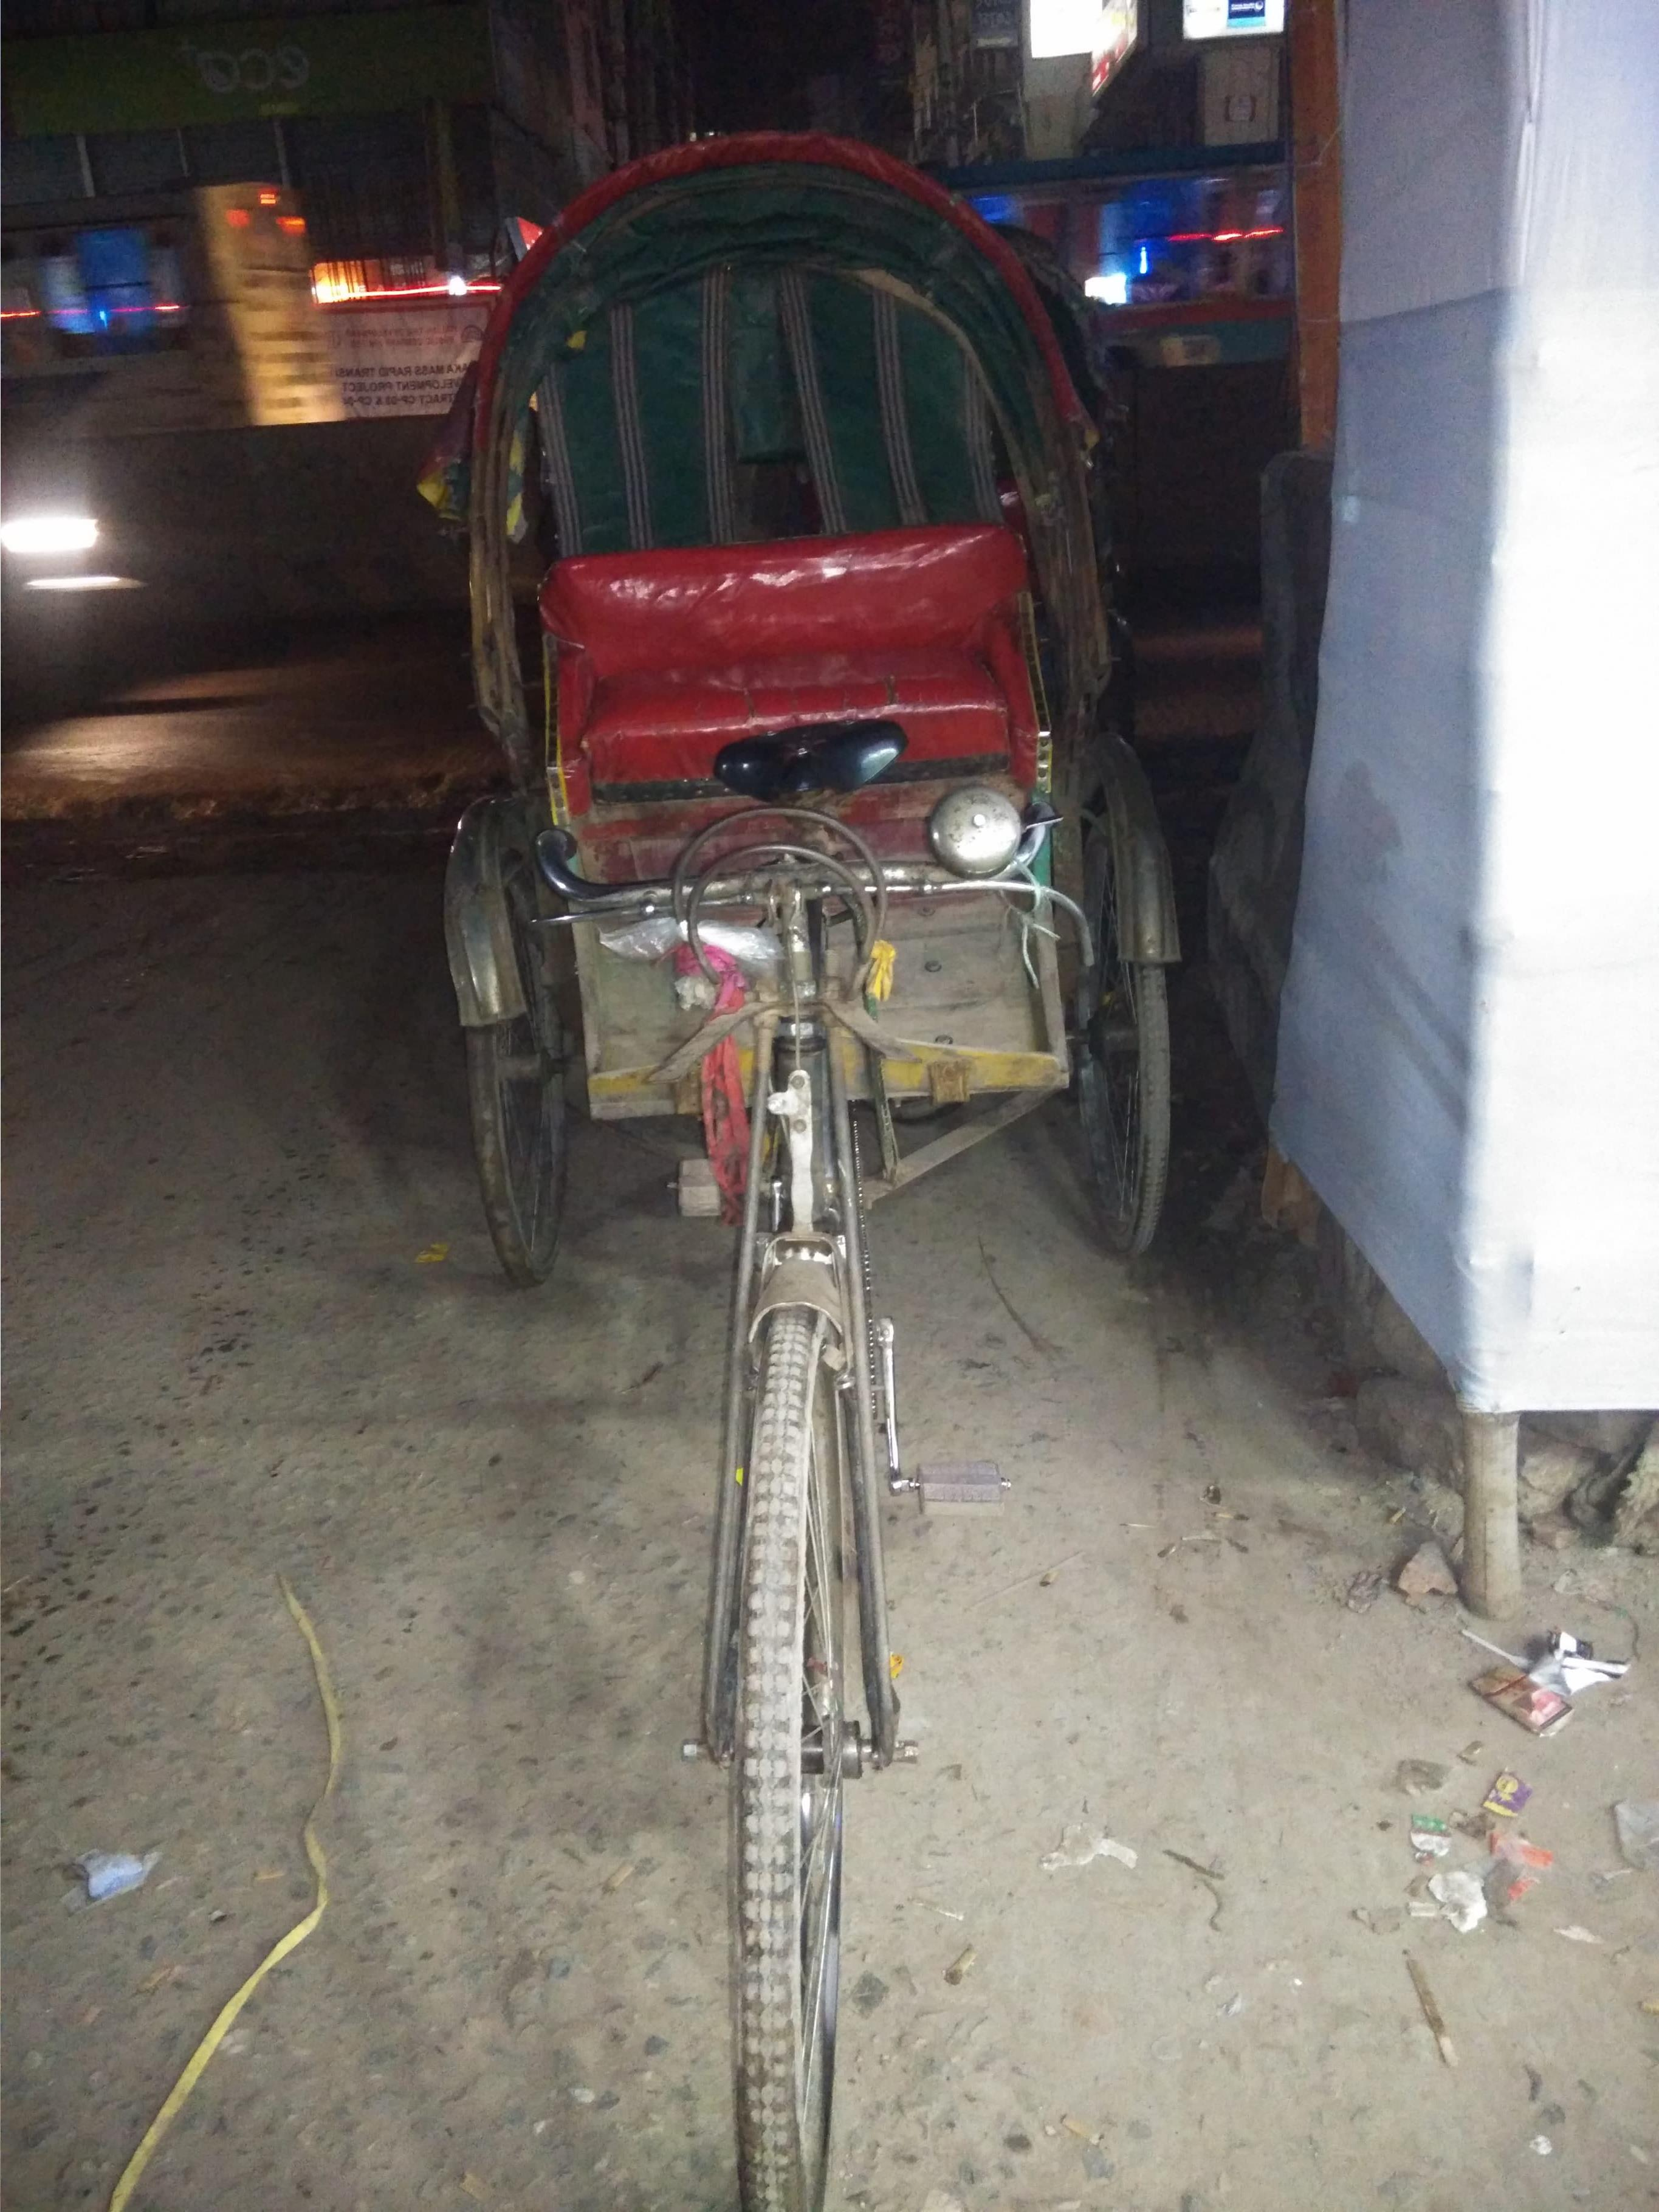Rickshaw: (392, 132, 1283, 2123)
